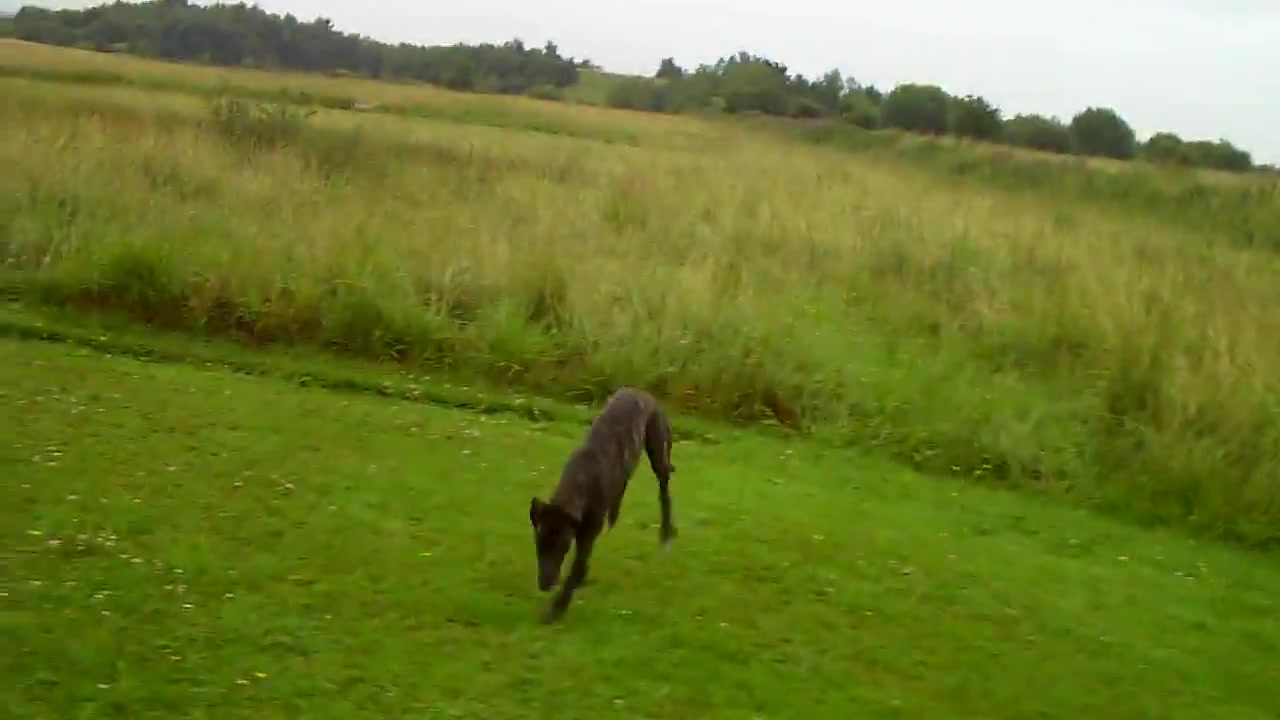dog: (525, 384, 681, 631)
